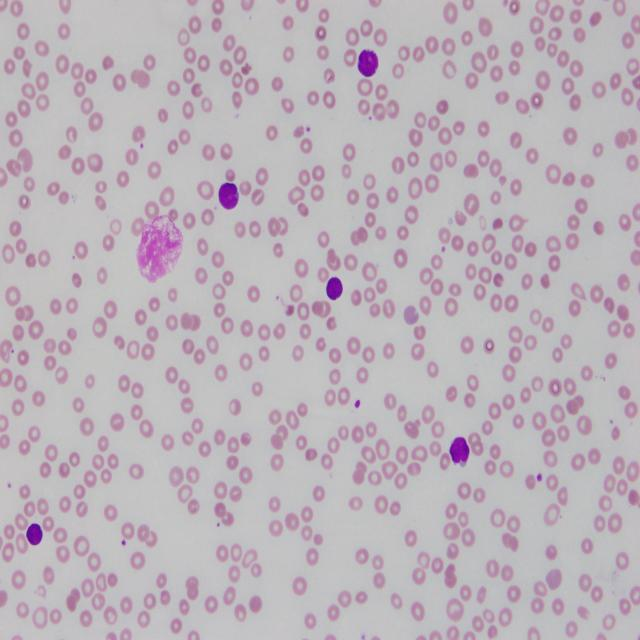cell: (450, 437, 470, 467), (358, 50, 379, 77), (219, 183, 239, 210), (326, 277, 342, 300), (26, 523, 42, 545)
